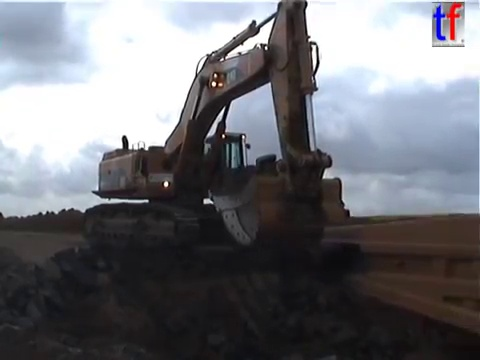excavator: (79, 1, 351, 255)
truck: (317, 210, 480, 340)
wheel loader: (265, 193, 355, 237)
